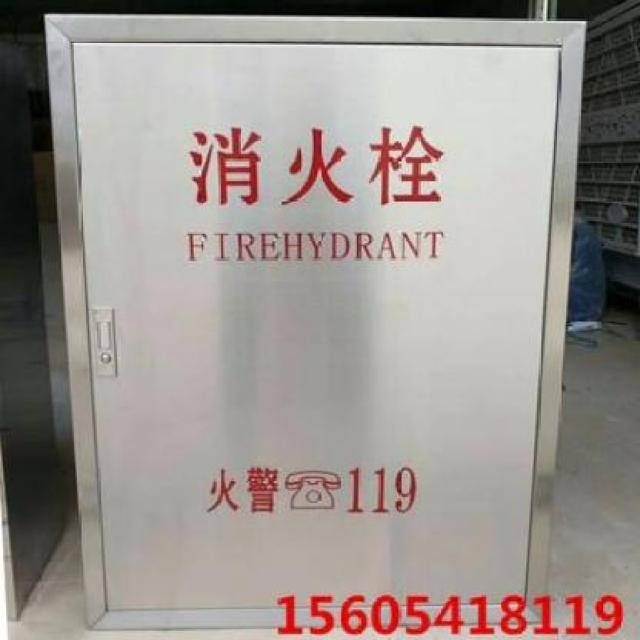firehydrant: (38, 9, 591, 636)
